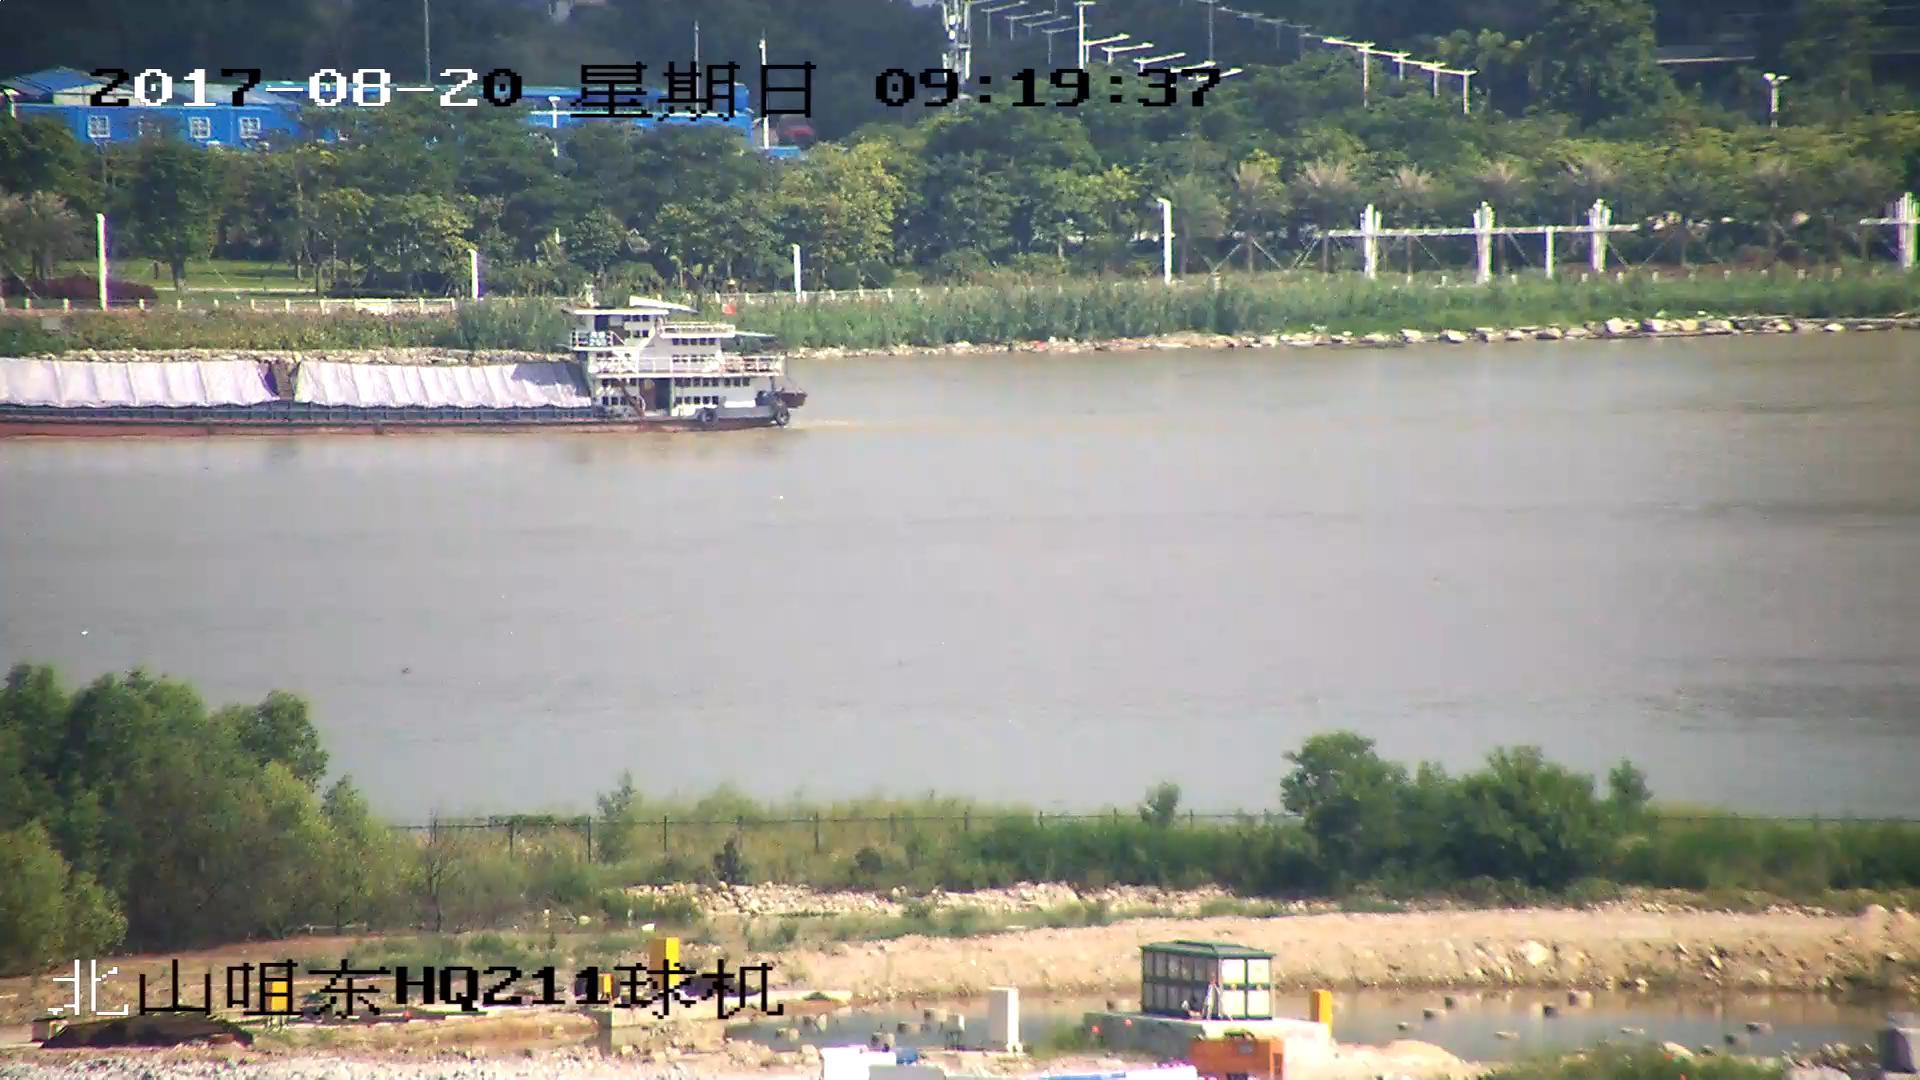Ship: (3, 295, 802, 440)
